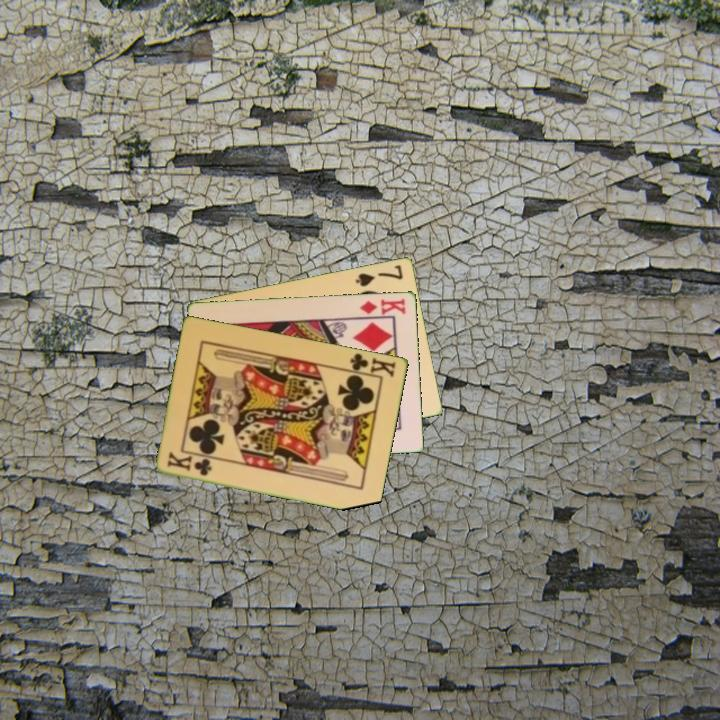7s: (352, 261, 406, 289)
Kc: (343, 349, 399, 380), (164, 449, 215, 478)
Kd: (357, 295, 409, 317)
